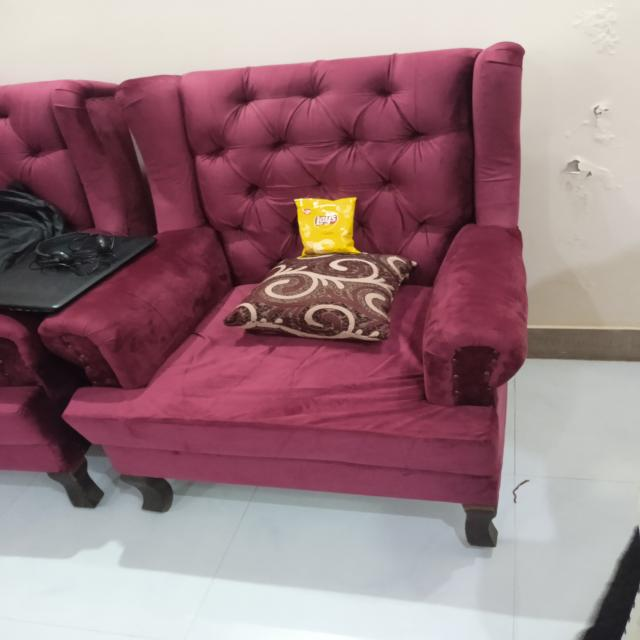Plastic: (289, 194, 365, 262)
